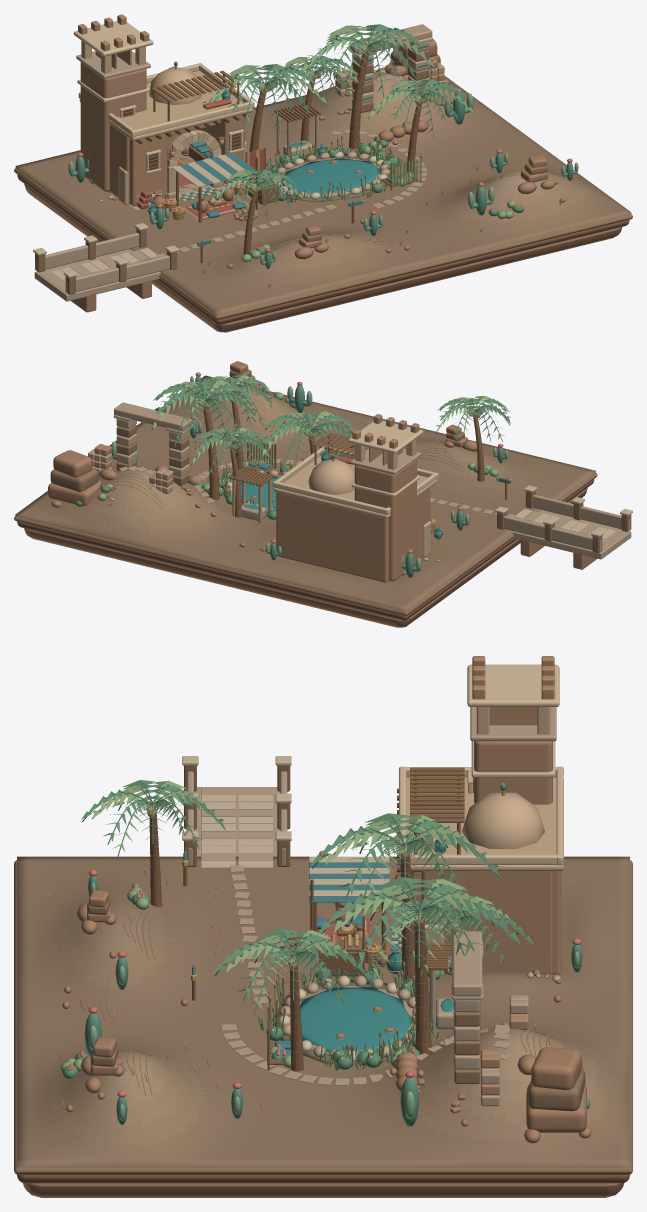
File: desert.glb
3 renders of one model, top to bottom at view 1: azimuth 30°, elevation 25°; view 2: azimuth 150°, elevation 25°; view 3: azimuth 270°, elevation 25°, orthographic. The views are drawn at different scales.
Visible parts, largest first — view 1: Terrain, Details, Obstacles, Walkable; view 2: Terrain, Obstacles, Details, Walkable; view 3: Terrain, Details, Obstacles, Walkable.
Boxes of the visible parts, x1,y1,x2,y2 form: Terrain: [15, 73, 631, 315]; Details: [14, 14, 632, 332]; Obstacles: [35, 21, 578, 294]; Walkable: [34, 154, 418, 301]; Terrain: [15, 375, 595, 611]; Obstacles: [48, 361, 631, 582]; Details: [14, 372, 632, 627]; Walkable: [242, 459, 631, 582]; Terrain: [17, 856, 629, 1167]; Details: [14, 656, 632, 1197]; Obstacles: [77, 664, 591, 1143]; Walkable: [194, 787, 284, 1064].
Size of the model in its own units: 31.15 by 10.38 by 21.5.
